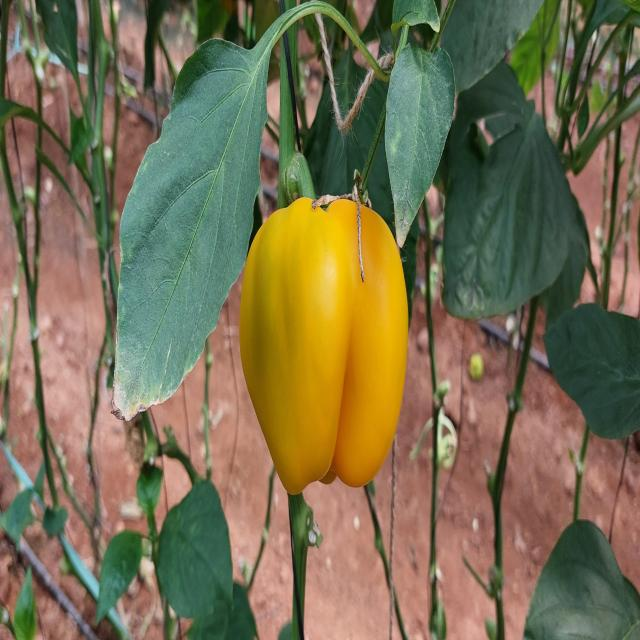Yellow-Ready-to-Harvest: (238, 183, 410, 507)
